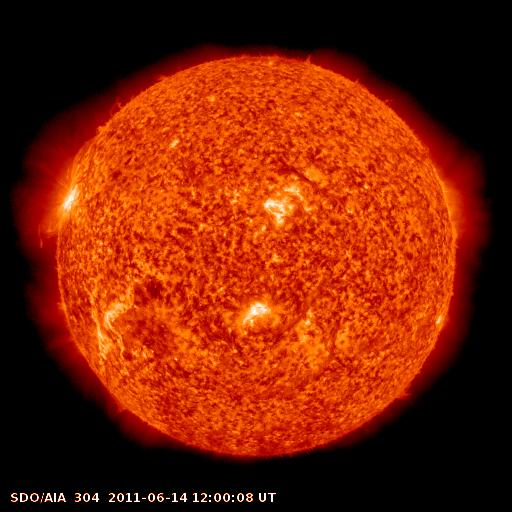prominence: (66, 121, 111, 180), (105, 89, 137, 122)
